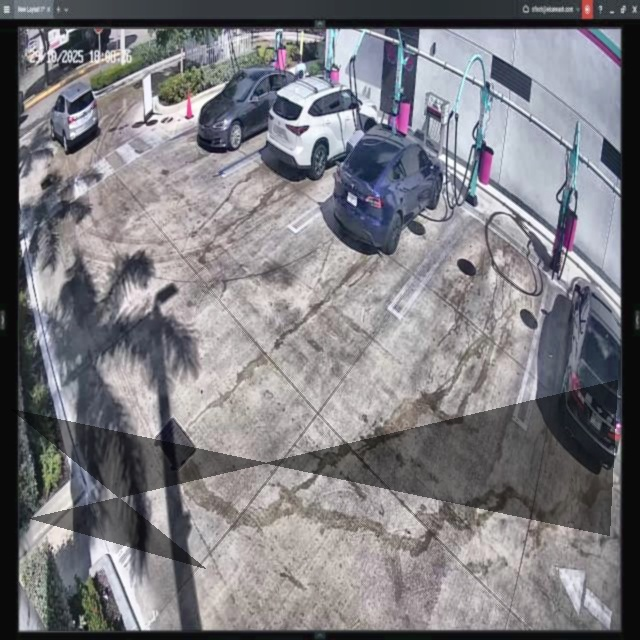Car: (332, 133, 445, 245), (274, 81, 378, 174), (201, 68, 298, 155)
